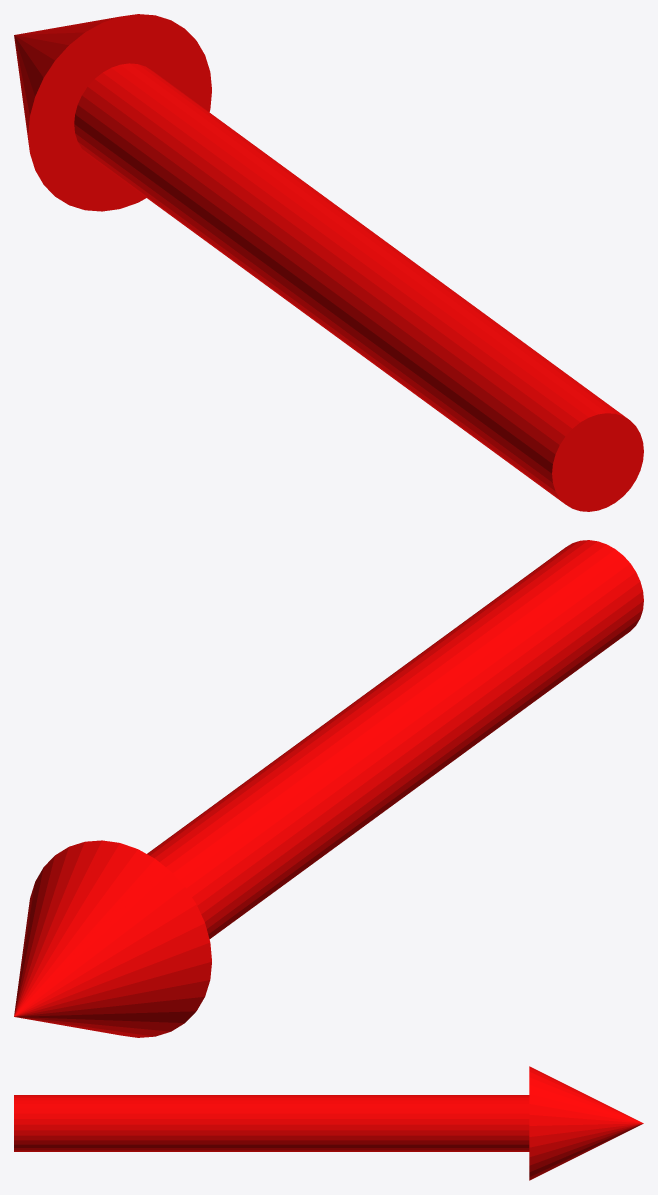
Rendered from arrow.fbx.
3 views of the same model, one above another, from view 1: azimuth 30°, elevation 25°; view 2: azimuth 150°, elevation 25°; view 3: azimuth 270°, elevation 25° (orthographic). The views are drawn at different scales.
Parts seen in each view (by area): view 1: Cylinder, Cone; view 2: Cylinder, Cone; view 3: Cylinder, Cone.
Boxes of the visible parts, x1,y1,x2,y2 form: Cylinder: (74,63,643,511); Cone: (14,14,211,211); Cylinder: (147,540,643,939); Cone: (14,840,211,1037); Cylinder: (14,1095,529,1151); Cone: (529,1066,643,1180).
Bounding box in the file's own units: 40 × 40 × 220.
Materials: 1 (1 with a texture image).
